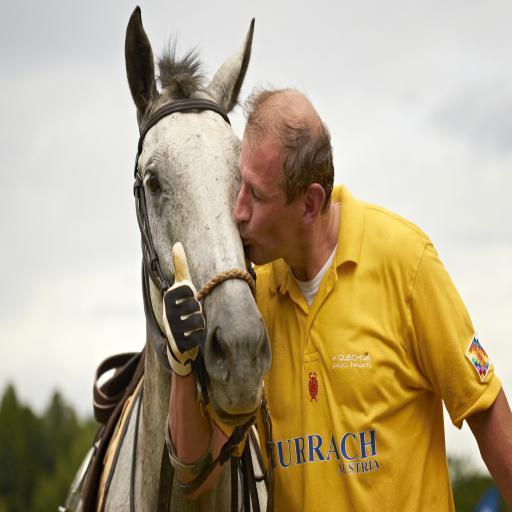horse: (62, 2, 270, 512)
